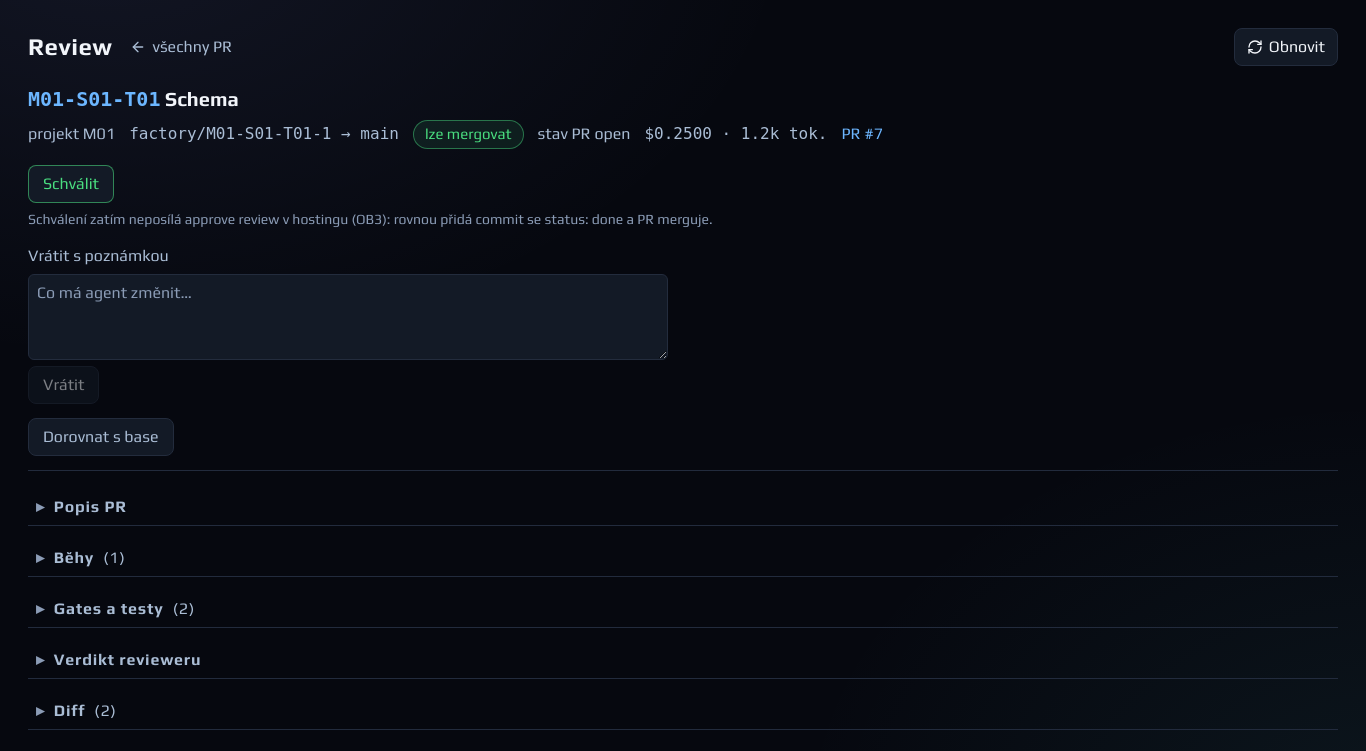
ReviewView › keeps the return note when the return fails
Type "přidej test" into the text box with test id "return-note".
click(348, 316); type("přidej test")  # box [28,274,668,360]
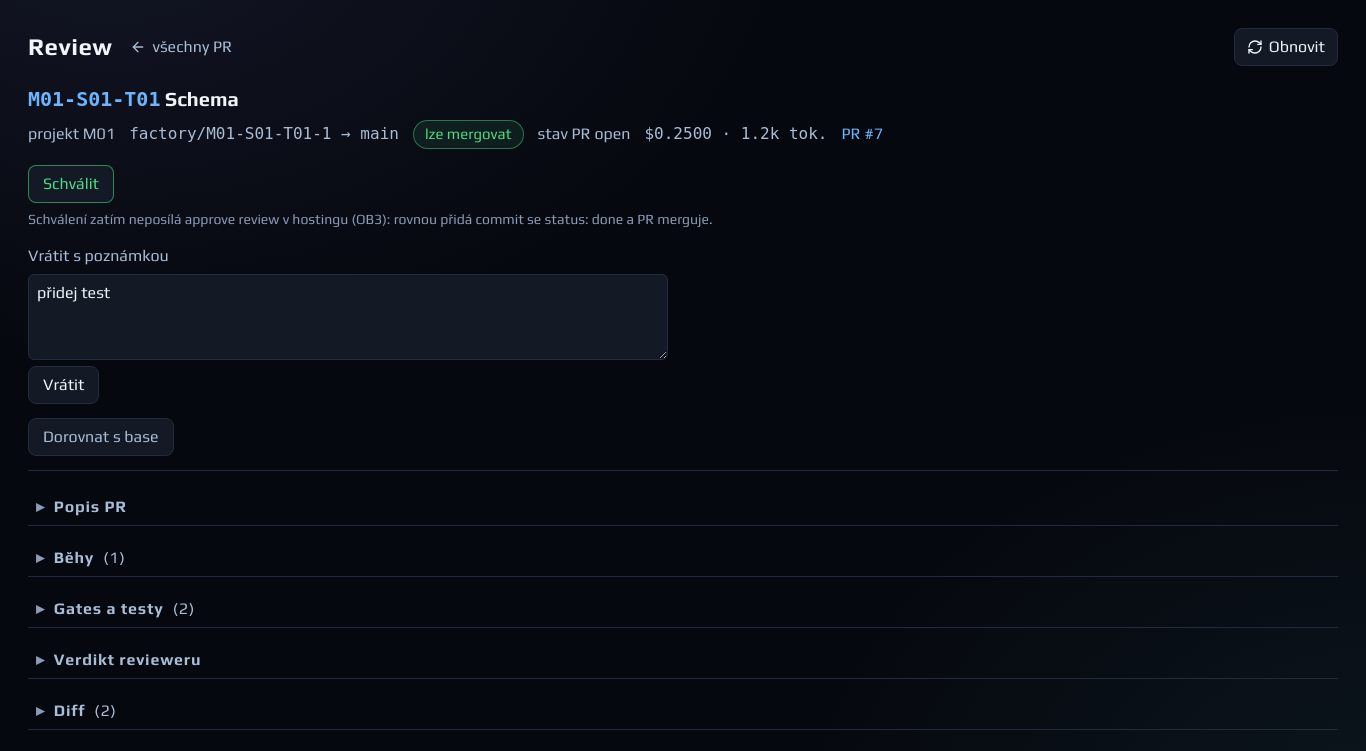
Click the button with test id "return".
click(64, 384)  # box [28,366,100,404]
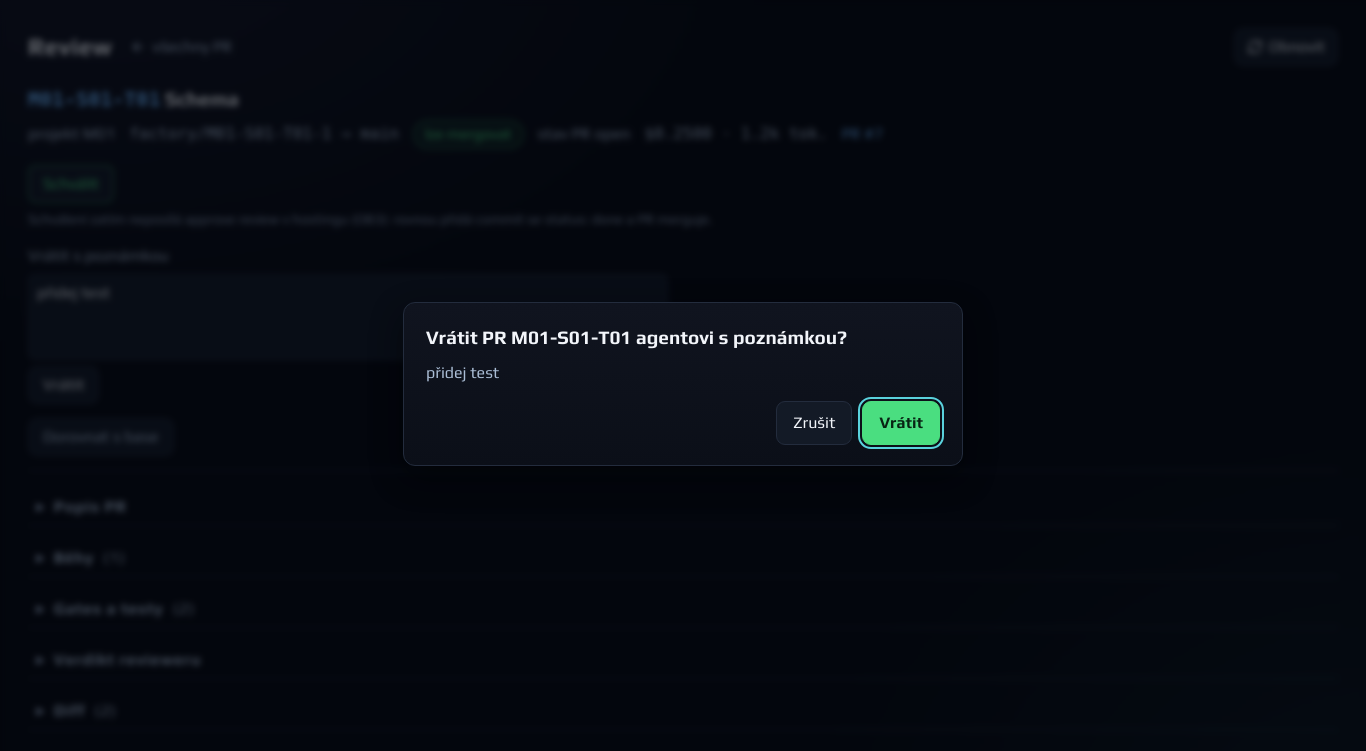
Click the button with test id "confirm-ok".
click(901, 423)  # box [862,401,940,445]
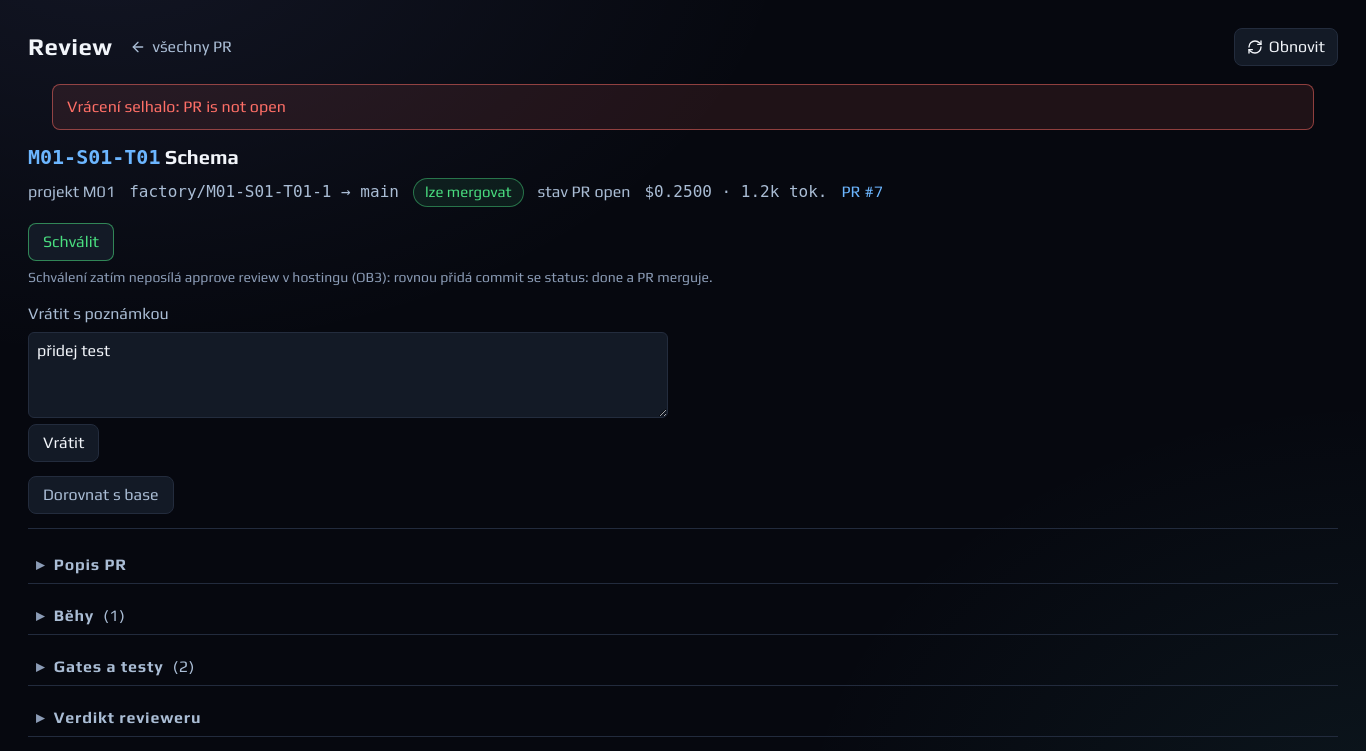
expect the text with test id "error" reads "Vrácení selhalo: PR is not open": met, box [67,97,286,116]
